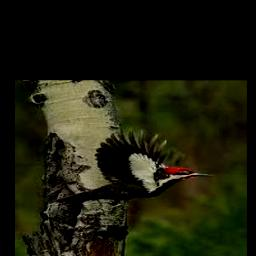Woodpecker: (50, 129, 214, 207)
